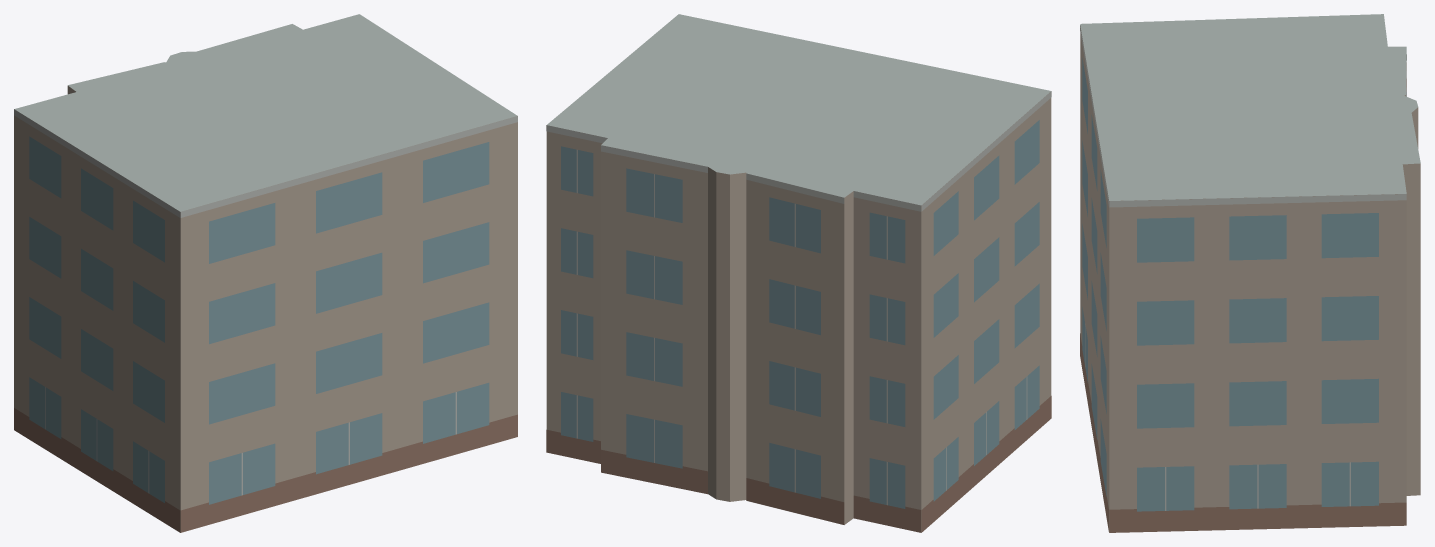
The model's file is survey-upis-32520964.glb.
The picture shows the model from 3 angles, left to right: view 1: azimuth 30°, elevation 25°; view 2: azimuth 150°, elevation 25°; view 3: azimuth 270°, elevation 25°; orthographic projection. The views are drawn at different scales.
Parts seen in each view (by area): view 1: survey-upis-32520964.tmp; view 2: survey-upis-32520964.tmp; view 3: survey-upis-32520964.tmp.
Part boxes in pixels (left/top/right/bottom): survey-upis-32520964.tmp: left=14, top=14, right=517, bottom=532; survey-upis-32520964.tmp: left=546, top=14, right=1051, bottom=532; survey-upis-32520964.tmp: left=1080, top=14, right=1420, bottom=532.
Size of the model in its own units: 15.24 by 12.6 by 11.74.
